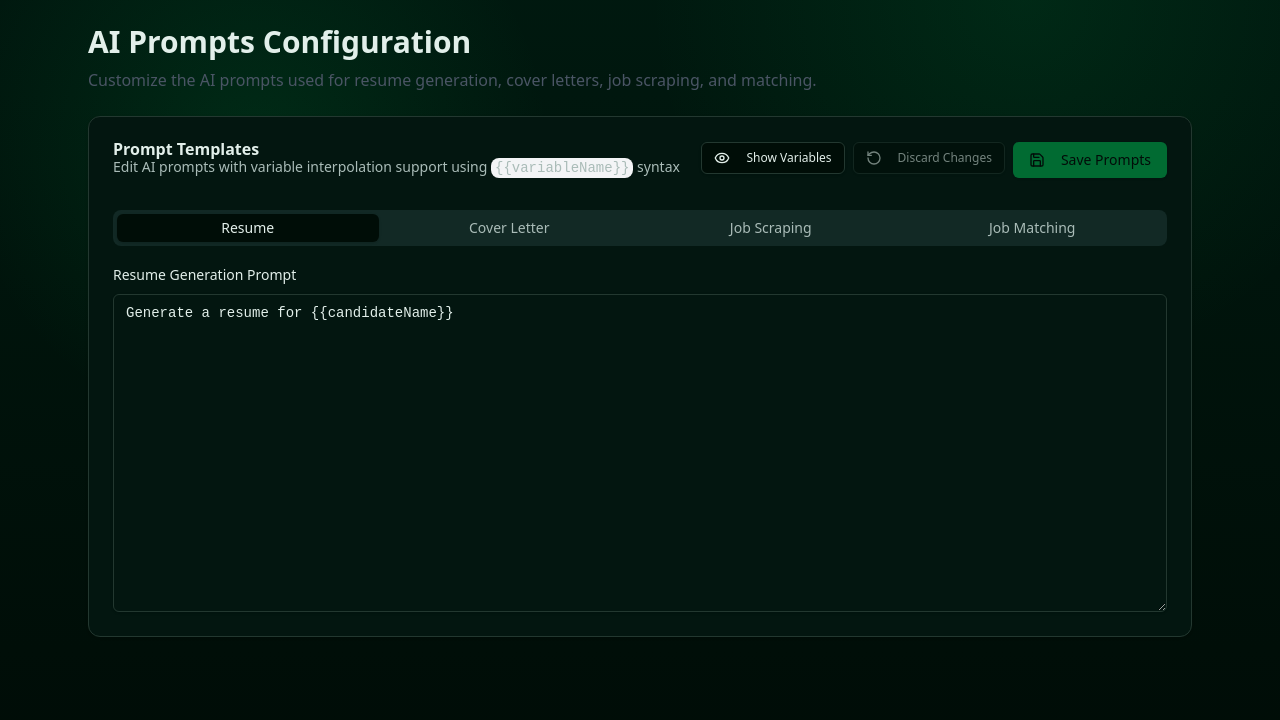
Test: AIPromptsPage › switches tabs when clicked
Click the tab "Cover Letter".
click(509, 228)  # box [378, 214, 640, 242]
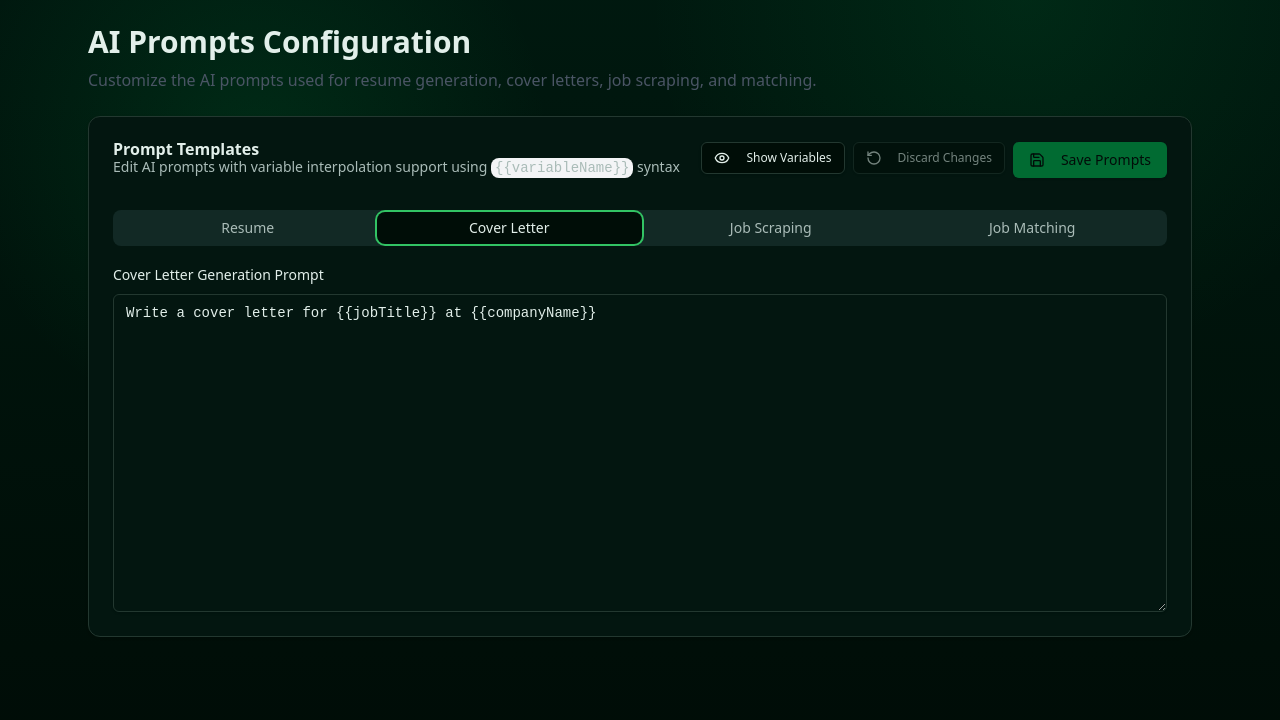
Result: the text box showing "Write a cover letter for {{jobTitle}} at {{companyName}}" is shown at [113, 294, 1167, 612]
